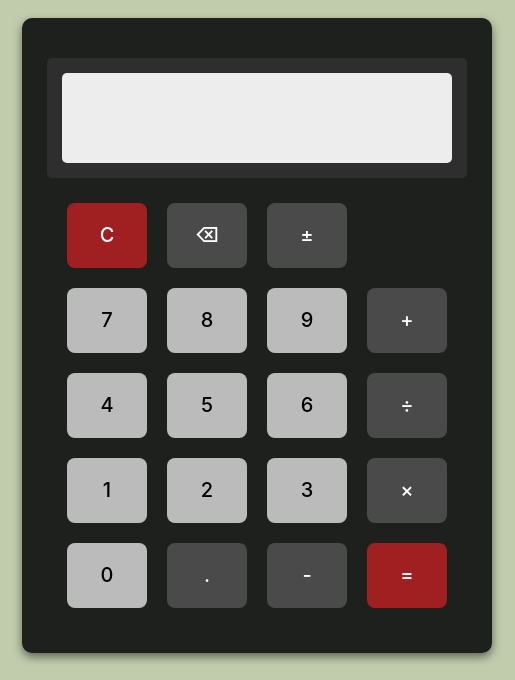
deletes last character when backspace is pressed
Click the button "7" at (107, 320), box left=67, top=288, right=147, bottom=352
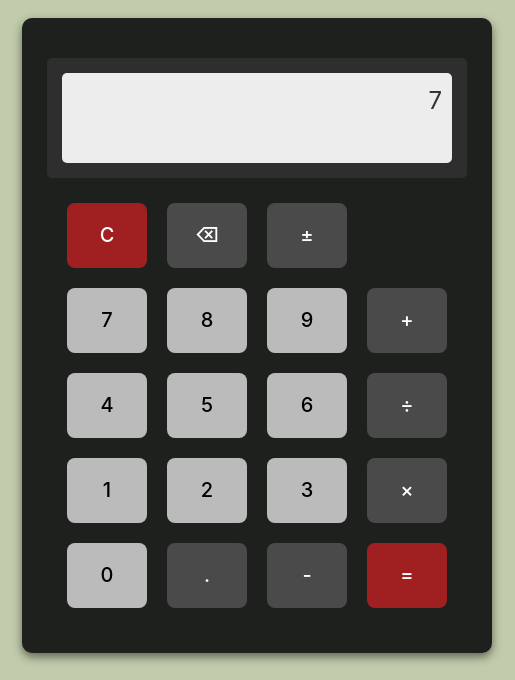
Click the button "3" at (307, 490), box left=267, top=458, right=347, bottom=522
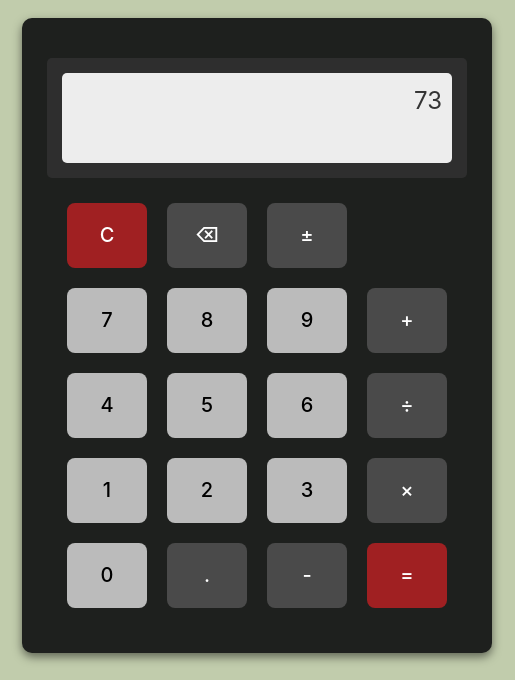
Click the button "⌫" at (207, 235), box left=167, top=202, right=247, bottom=268
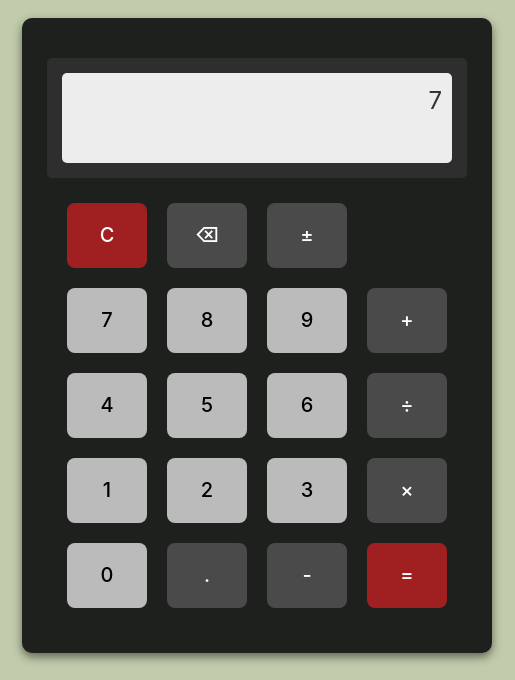
Expected: the text with test id "display-value" reads "7", left=428, top=86, right=442, bottom=114
